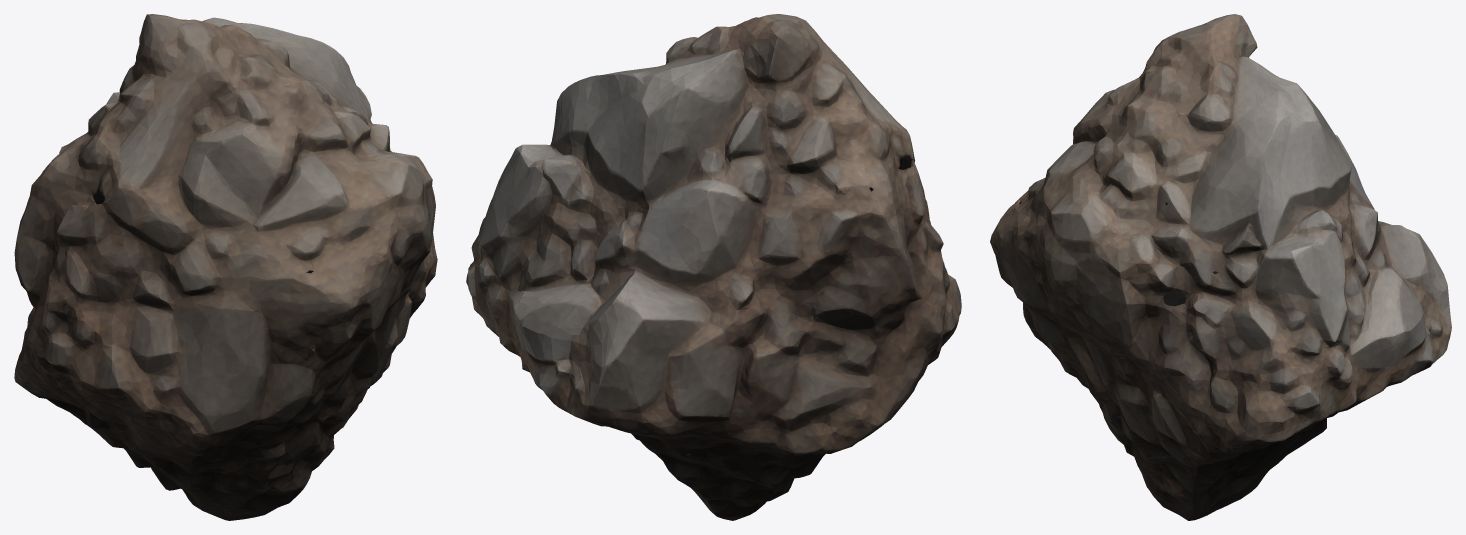
3 views of the same model, side by side, from view 1: azimuth 30°, elevation 25°; view 2: azimuth 150°, elevation 25°; view 3: azimuth 270°, elevation 25° (orthographic). The views are drawn at different scales.
Visible parts, largest first — view 1: world; view 2: world; view 3: world.
Boxes of the visible parts, x1=… form: world: x1=14, y1=14, x2=437, y2=520; world: x1=466, y1=14, x2=961, y2=520; world: x1=990, y1=14, x2=1451, y2=520.
Bounding box in the file's own units: 0.7968 × 0.8985 × 0.7952.
Materials: 1 (1 with a texture image).
